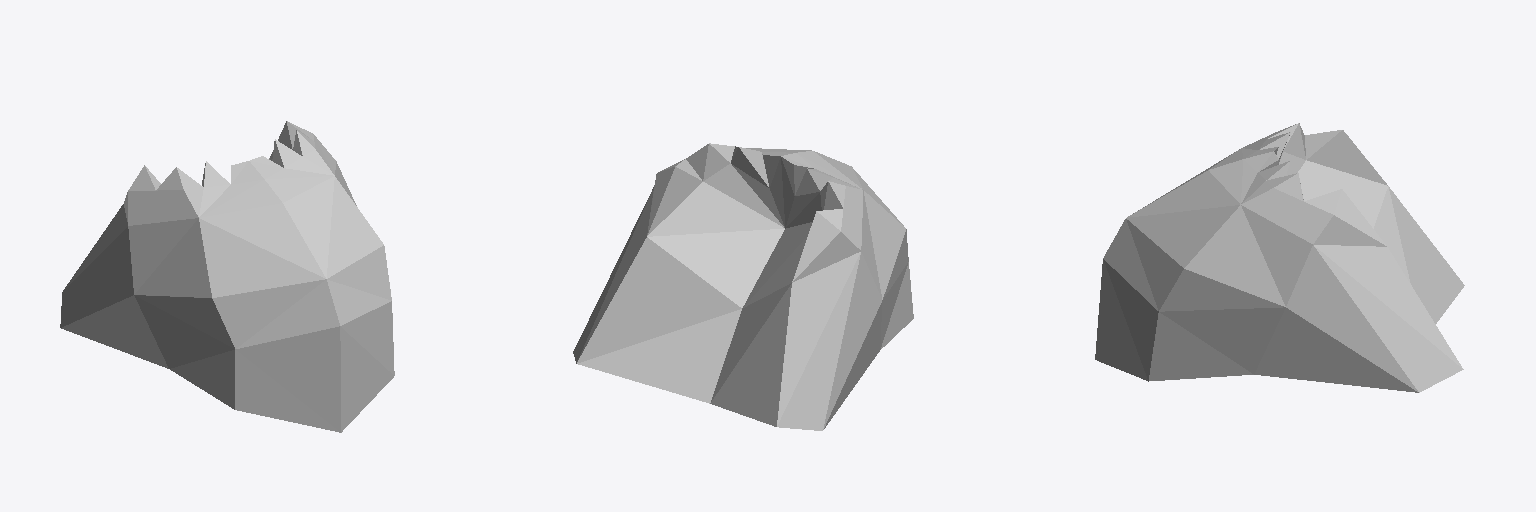
File: templeHead_prefab.obj
The picture shows the model from 3 angles: view 1: azimuth 30°, elevation 25°; view 2: azimuth 150°, elevation 25°; view 3: azimuth 270°, elevation 25°; orthographic projection.
Visible parts, largest first — view 1: Object282-Pivot; view 2: Object282-Pivot; view 3: Object282-Pivot.
Boxes of the visible parts, box(x1,y1,x2,y2) form: Object282-Pivot: box(60, 121, 394, 432); Object282-Pivot: box(573, 143, 913, 430); Object282-Pivot: box(1095, 123, 1464, 392).
Size of the model in its own units: 24.76 by 20.28 by 31.65.